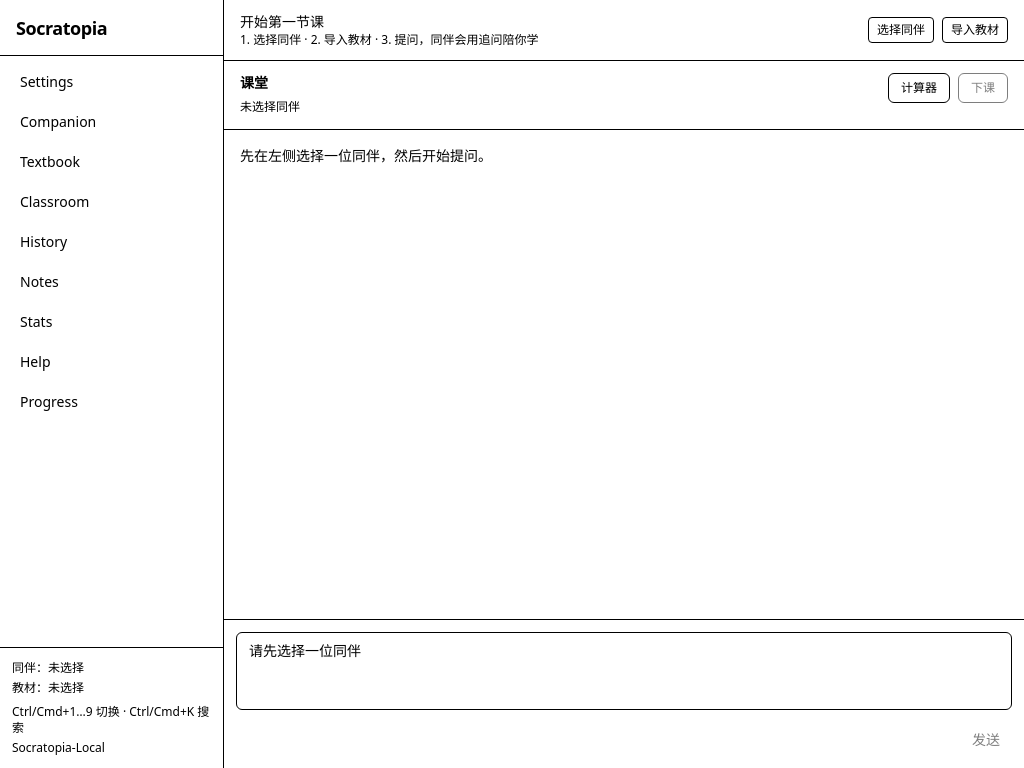
Test: classroom loop › opens a past conversation from history
expect the heading "Socratopia" is shown: met, box [16, 14, 107, 42]
Click the button "History": x=112, y=242 [8, 224, 215, 260]
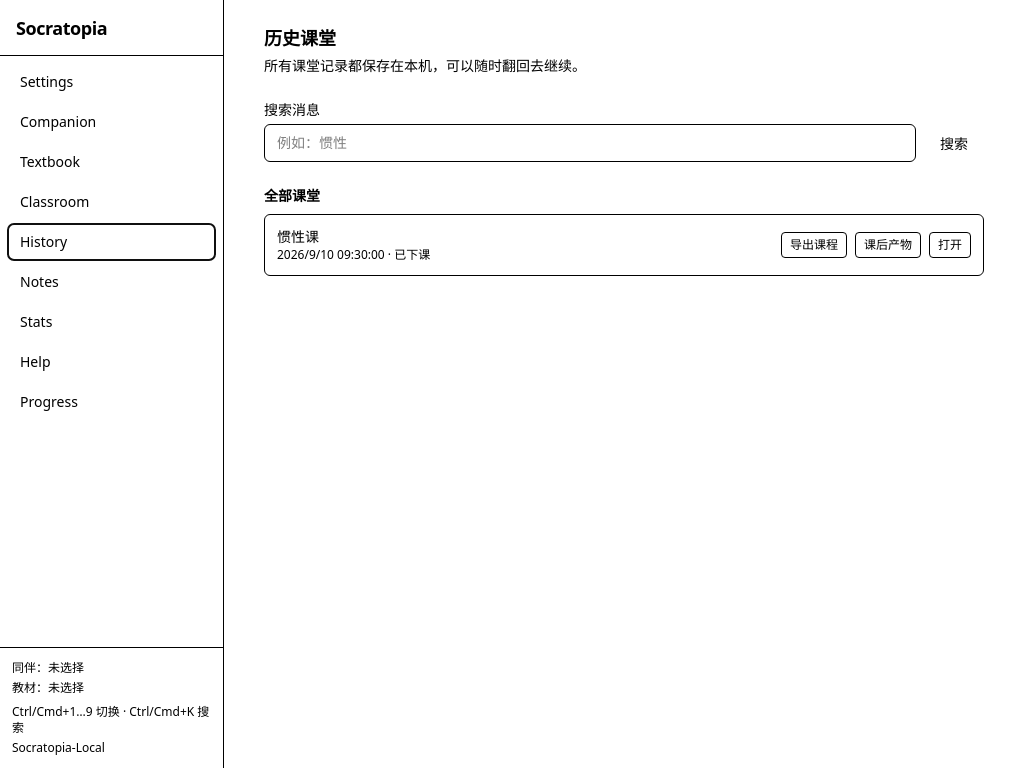
expect the text "惯性课" is shown: met, box [277, 227, 319, 246]
Click the button "打开": x=950, y=245 [929, 232, 971, 258]
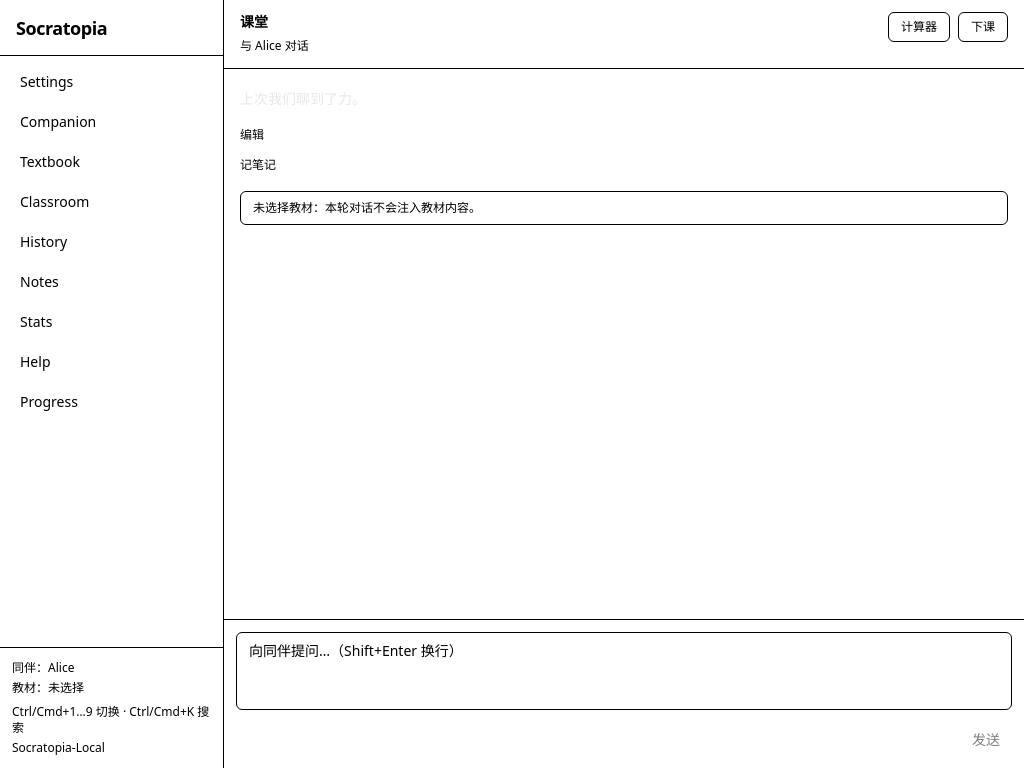
expect the text "与 Alice 对话" is shown: met, box [240, 37, 309, 54]
expect the text "上次我们聊到了力。" is shown: met, box [240, 89, 366, 108]
